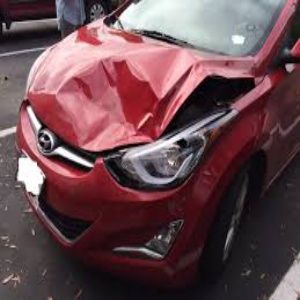bonnet: (35, 43, 210, 128)
